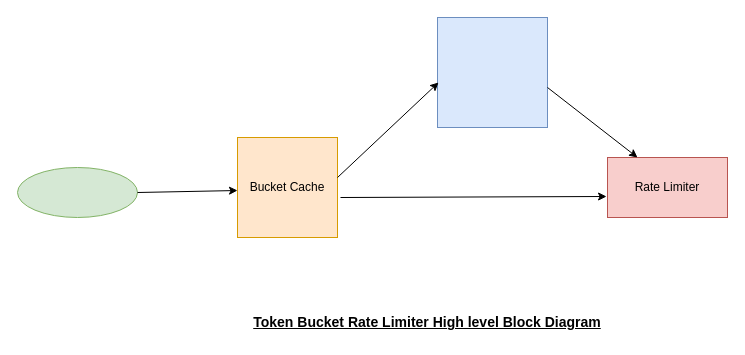
This 745x355 diagram has some shape labels left out. The centre of each missing label's shape, as x and y in pixels:
"Application" belongs at (x=77, y=192).
"Bucket creator" belongs at (x=492, y=72).
